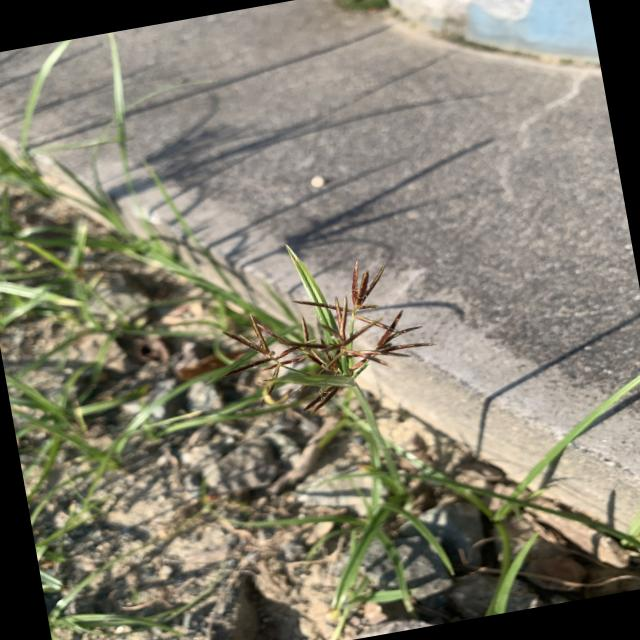cyperus: (203, 239, 448, 422)
